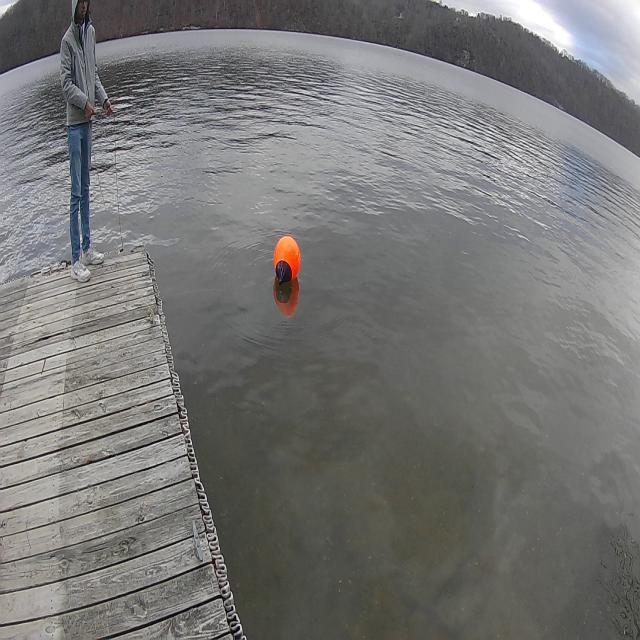Buoy: (271, 232, 302, 281)
